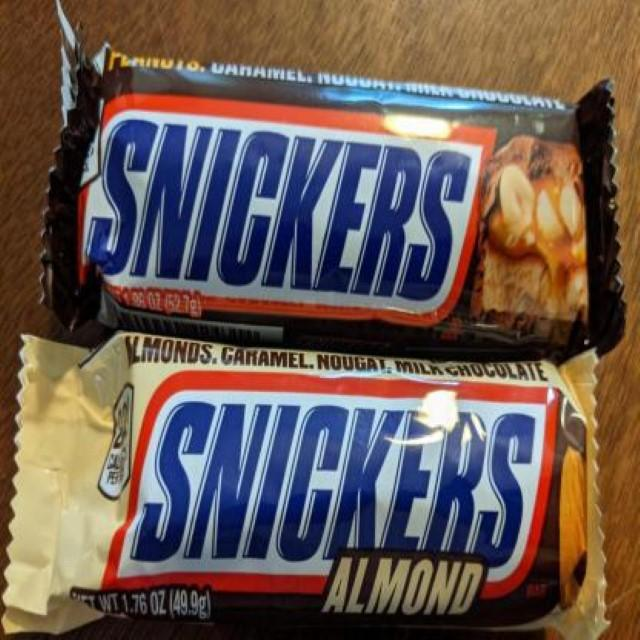snickers_chocolate: (47, 30, 633, 333), (33, 336, 616, 640)
